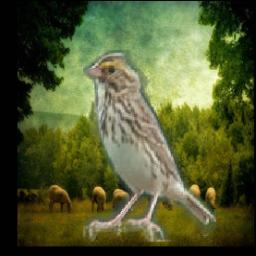Sparrow: (83, 50, 216, 242)
